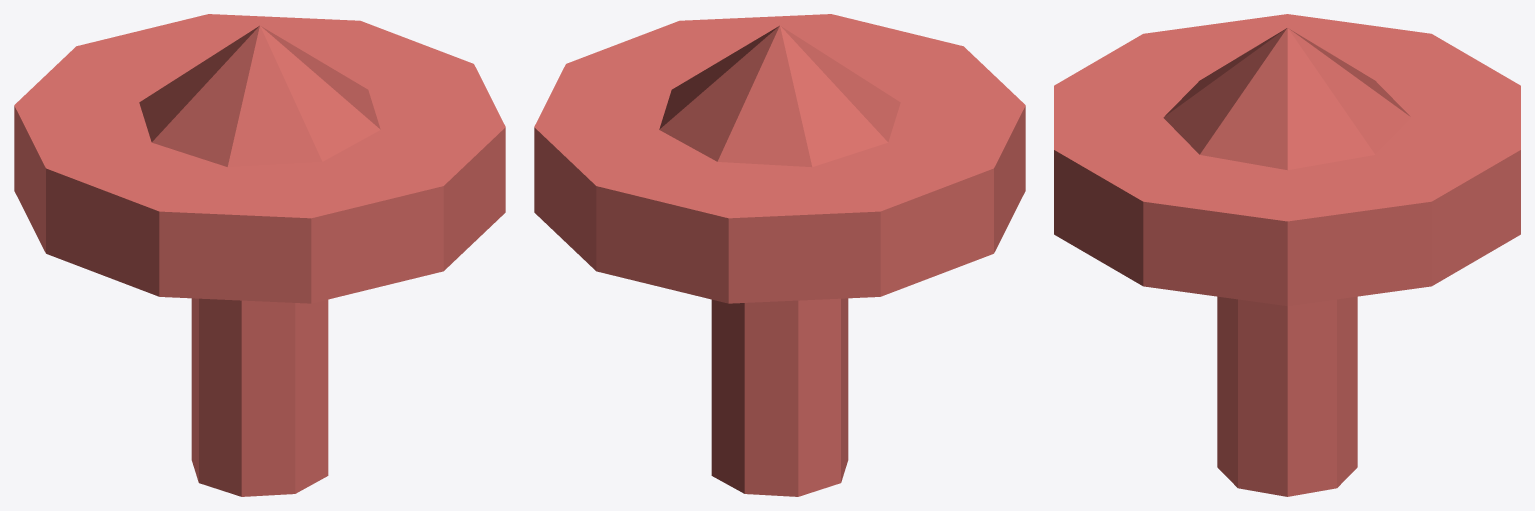
The model's file is Mushroom.glb.
The picture shows the model from 3 angles, left to right: view 1: azimuth 30°, elevation 25°; view 2: azimuth 150°, elevation 25°; view 3: azimuth 270°, elevation 25°; orthographic projection.
Parts seen in each view (by area): view 1: filler_Mushroom; view 2: filler_Mushroom; view 3: filler_Mushroom.
Boxes of the visible parts, <box> form: filler_Mushroom: <box>14,14,505,496</box>; filler_Mushroom: <box>534,14,1025,496</box>; filler_Mushroom: <box>1054,14,1520,496</box>.
Bounding box in the file's own units: 0.84 × 0.83 × 0.7989.
